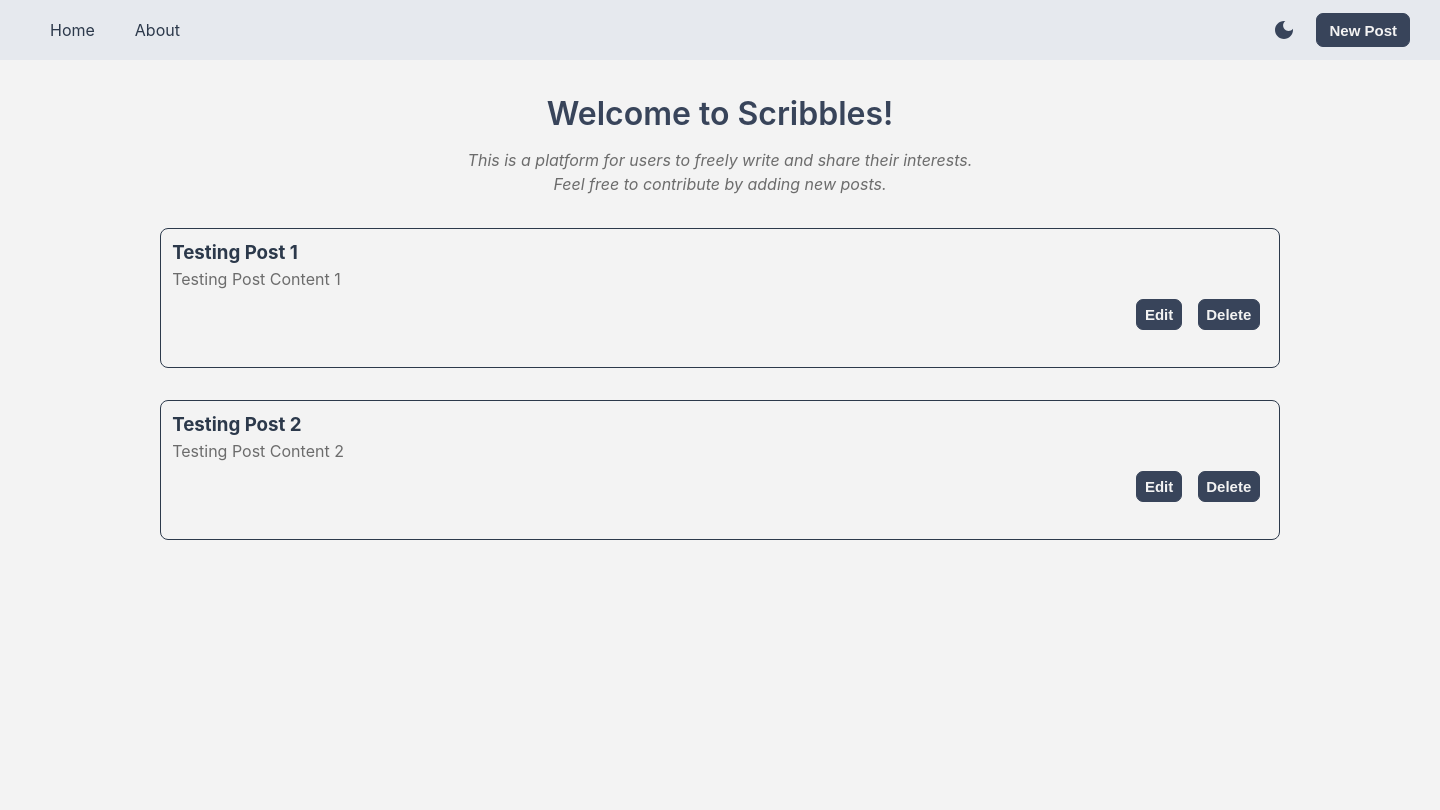
Scenario: App Component › delete post
Click the 1st button "Delete" at (1229, 314), box [1198,299,1260,330]
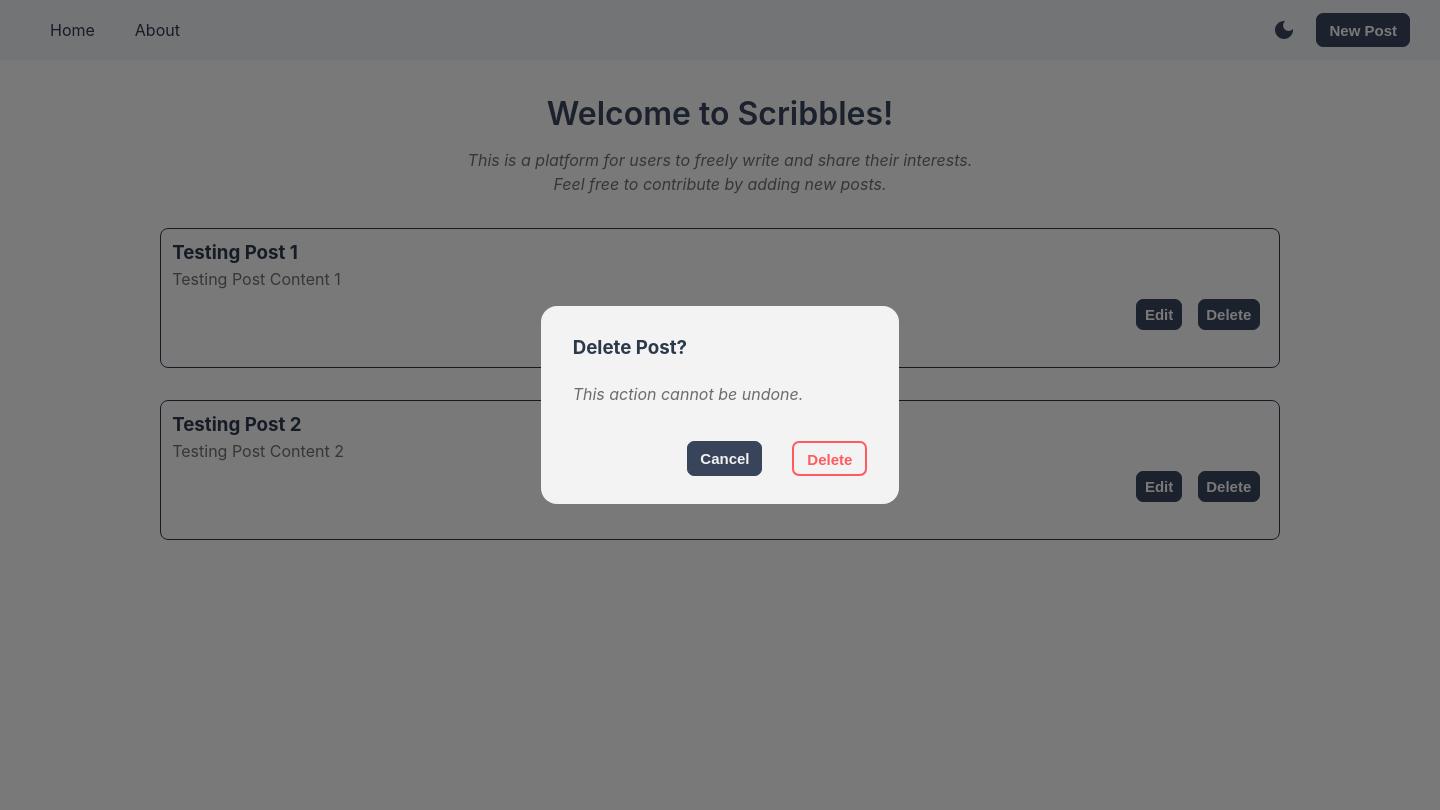
Click the button "Delete" below "This action cannot be undone." at (830, 458), box [792,441,867,476]
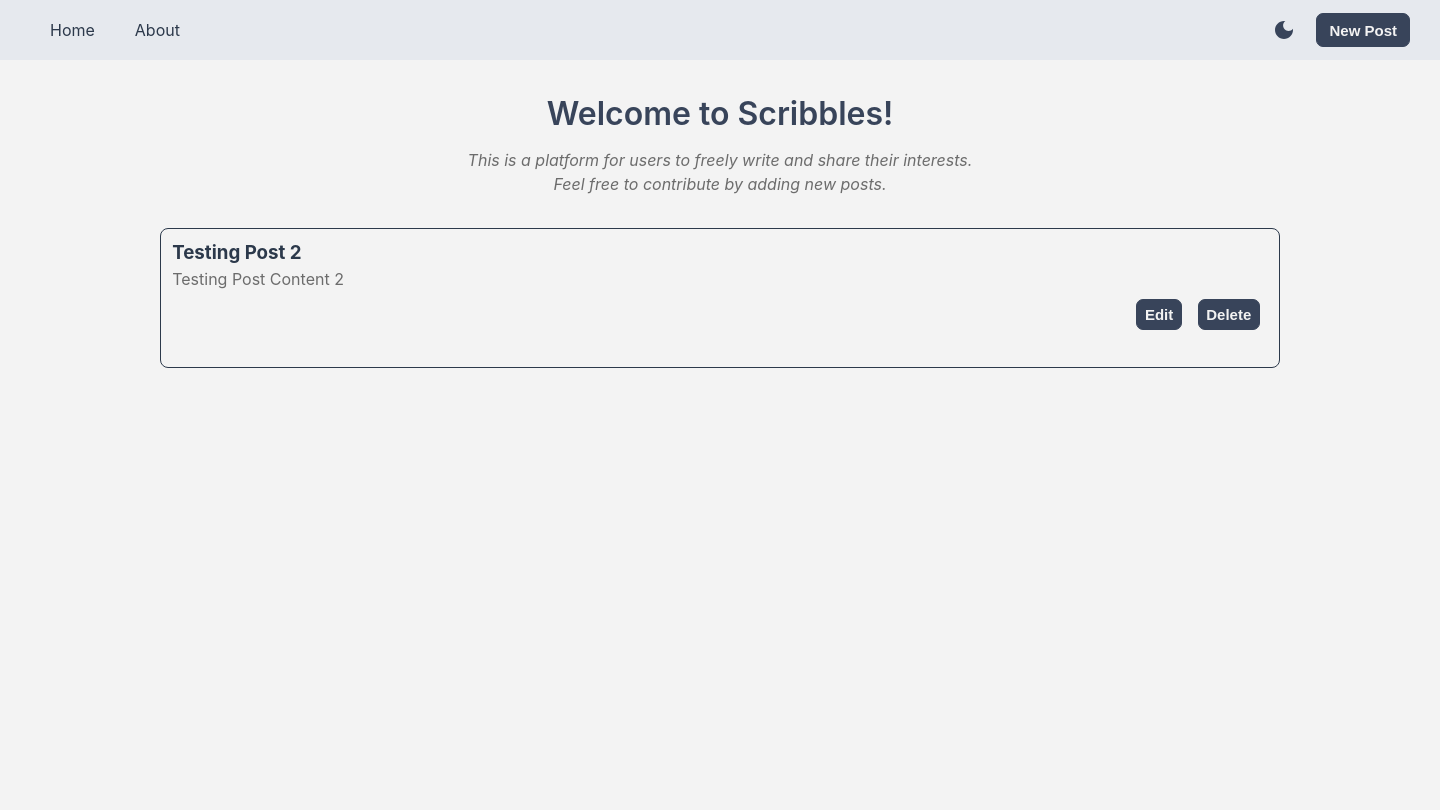
Expected: the heading "Testing Post 2" is shown, [172,241,302,264]
Now the text "This action cannot be undone?" is gone
Now the heading "Testing Post 1" is gone
